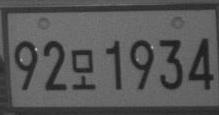1: (103, 39, 128, 89)
2: (43, 40, 67, 90)
3: (158, 39, 183, 89)
4: (188, 37, 215, 89)
9: (13, 40, 38, 90), (129, 39, 154, 89)
모: (71, 48, 95, 89)
